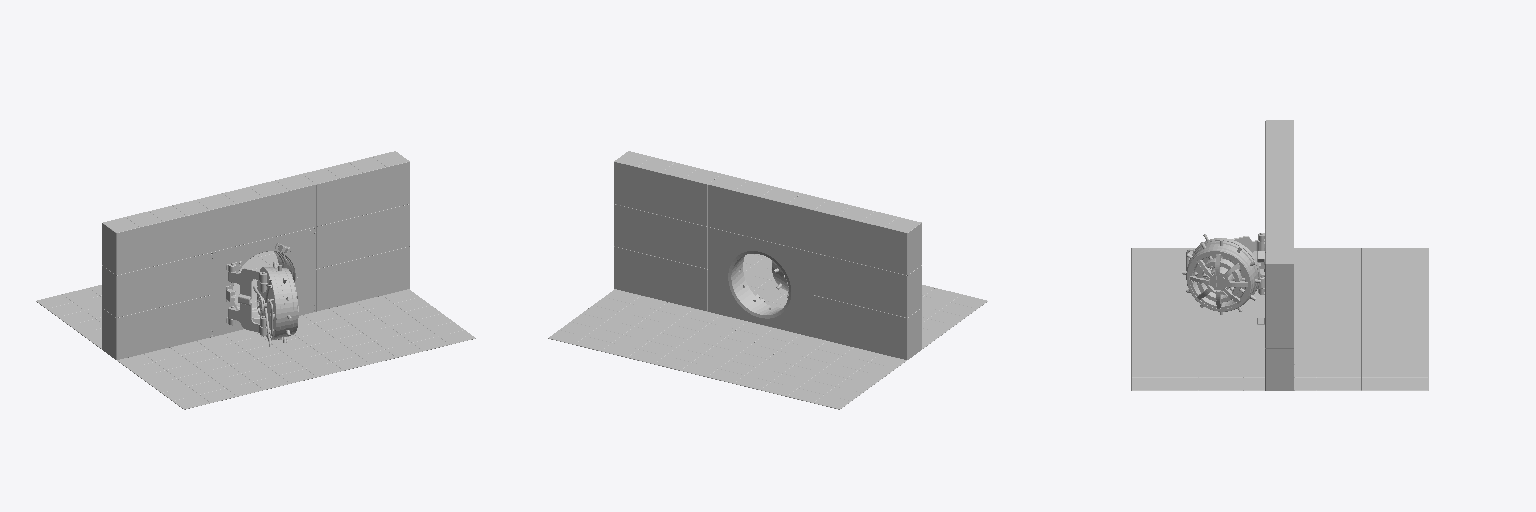
Rendered from vault opened.obj.
3 views of the same model, side by side, from view 1: azimuth 30°, elevation 25°; view 2: azimuth 150°, elevation 25°; view 3: azimuth 270°, elevation 25° (orthographic).
Parts seen in each view (by area): view 1: Object01, Object02, Plane02, Object03; view 2: Object01, Object02; view 3: Object01, Plane02, Object02.
Part boxes in pixels (x1,y1,x2,y2): Object01: (36,151,475,409); Object02: (197,174,315,252); Plane02: (253,262,298,346); Object03: (228,268,266,335); Object01: (548,151,987,409); Object02: (708,174,826,252); Object01: (1131,120,1428,390); Plane02: (1182,234,1264,314); Object02: (1265,166,1293,217).
Bounding box in the file's own units: 6972 × 2901 × 6104.